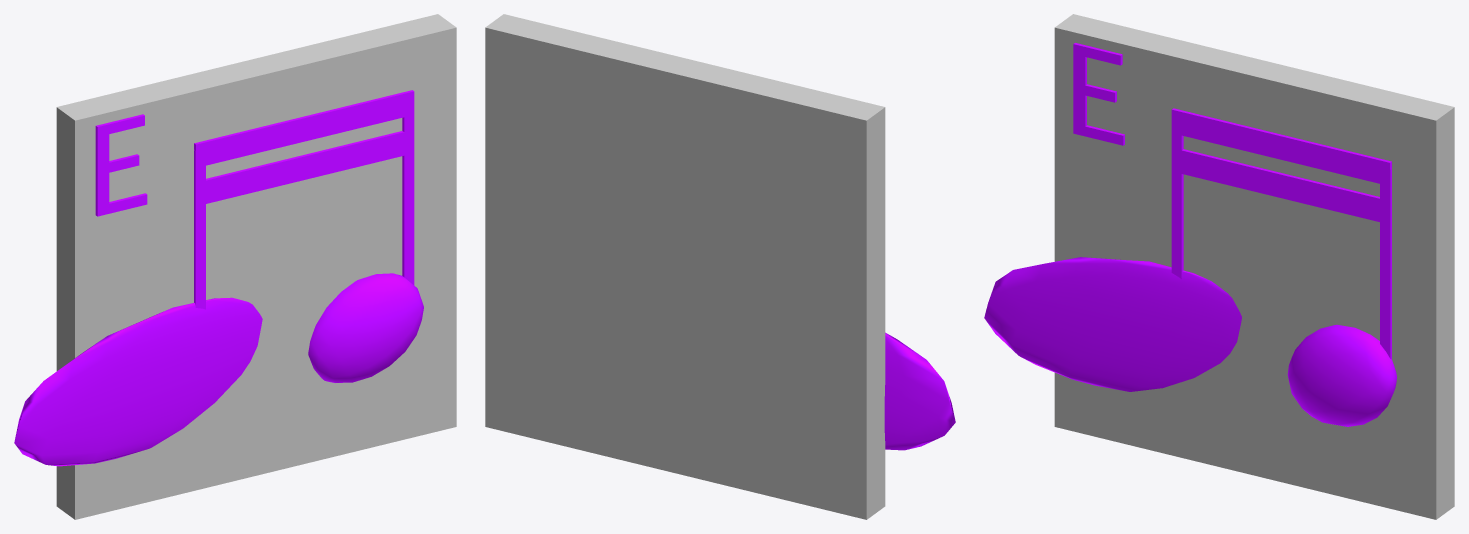
Rendered from enote.fbx.
The picture shows the model from 3 angles, left to right: view 1: azimuth 30°, elevation 25°; view 2: azimuth 150°, elevation 25°; view 3: azimuth 330°, elevation 25°; orthographic projection.
Parts seen in each view (by area): view 1: pasted__Button, pasted__pSphere1, pasted__pasted__pSphere1, pasted__pasted__pasted__pCube2, pasted__pasted__pasted__pasted__pCube2, pasted__typeMesh1, pasted__pasted__pCube2, pasted__pCube2; view 2: pasted__Button, pasted__pSphere1; view 3: pasted__Button, pasted__pSphere1, pasted__pasted__pSphere1, pasted__pasted__pasted__pCube2, pasted__pasted__pasted__pasted__pCube2, pasted__typeMesh1, pasted__pCube2, pasted__pasted__pCube2.
Part boxes in pixels (left/top/right/bottom): pasted__Button: left=56, top=14, right=456, bottom=519; pasted__pSphere1: left=14, top=297, right=262, bottom=466; pasted__pasted__pSphere1: left=308, top=273, right=423, bottom=382; pasted__pasted__pasted__pCube2: left=194, top=90, right=414, bottom=167; pasted__pasted__pasted__pasted__pCube2: left=196, top=130, right=414, bottom=206; pasted__typeMesh1: left=95, top=114, right=147, bottom=216; pasted__pasted__pCube2: left=402, top=98, right=414, bottom=284; pasted__pCube2: left=194, top=149, right=205, bottom=309; pasted__Button: left=485, top=14, right=885, bottom=519; pasted__pSphere1: left=884, top=332, right=955, bottom=450; pasted__Button: left=1054, top=14, right=1454, bottom=519; pasted__pSphere1: left=984, top=257, right=1241, bottom=391; pasted__pasted__pSphere1: left=1287, top=324, right=1396, bottom=426; pasted__pasted__pasted__pCube2: left=1171, top=108, right=1391, bottom=185; pasted__pasted__pasted__pasted__pCube2: left=1172, top=149, right=1389, bottom=224; pasted__typeMesh1: left=1073, top=43, right=1124, bottom=145; pasted__pCube2: left=1171, top=116, right=1183, bottom=278; pasted__pasted__pCube2: left=1380, top=168, right=1391, bottom=359.
Size of the model in its own units: 8.03 by 6.85 by 1.03.
